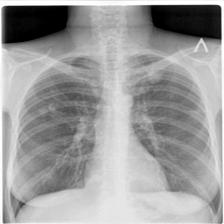tuberculosis: (0, 41, 224, 224)
